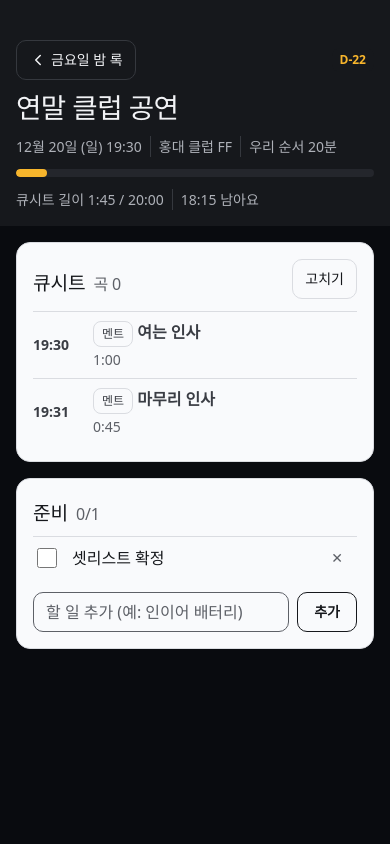
Test: 공연 큐시트 › 고친 걸 버전과 함께 저장하고, 409면 최신으로 불러오기를 띄운다
Click the button "고치기" at (325, 279), box 292,259 -> 357,299
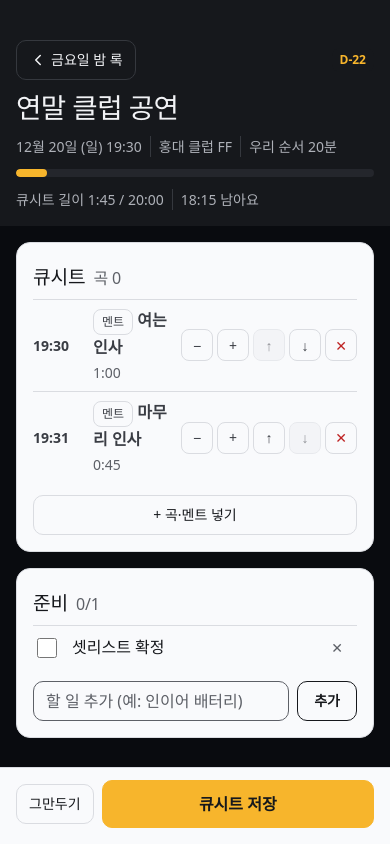
Click the button named "여는 인사 15초 늘리기" at (233, 346), box 217,330 -> 249,362
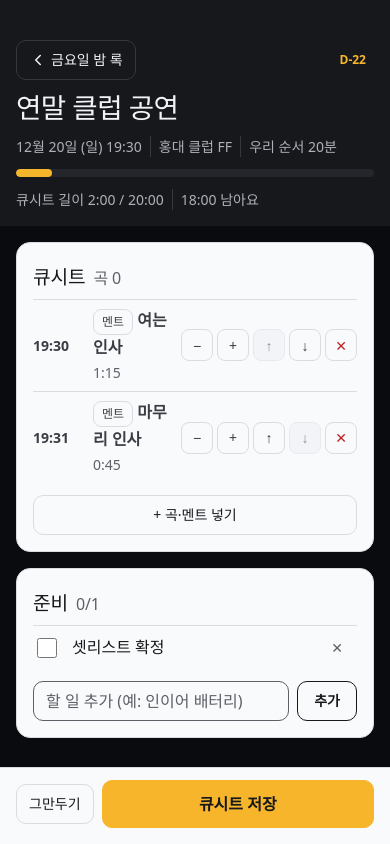
Click the button "큐시트 저장" at (238, 804), box 102,780 -> 374,828
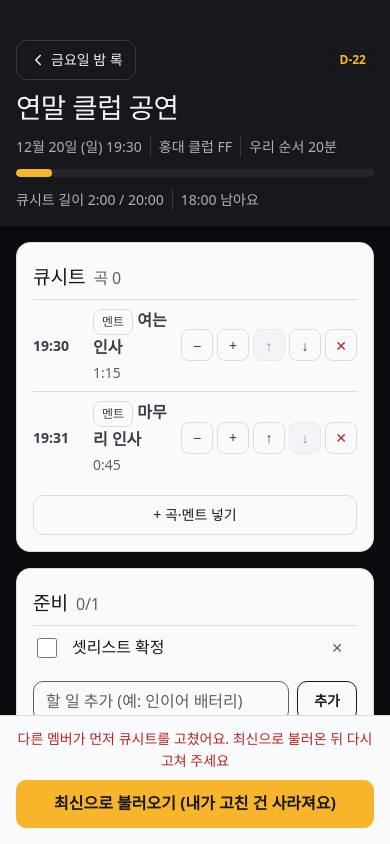
Now the button "최신으로 불러오기 (내가 고친 건 사라져요)" is shown, box 16,780 -> 374,828
